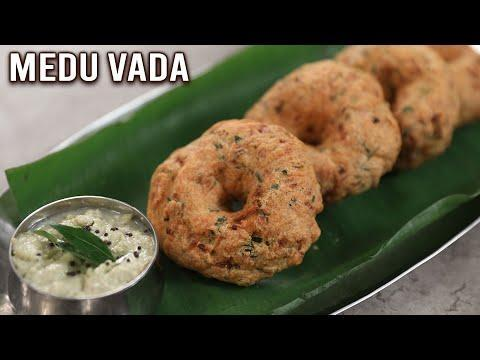mvada: (280, 50, 480, 140), (160, 138, 293, 246)
